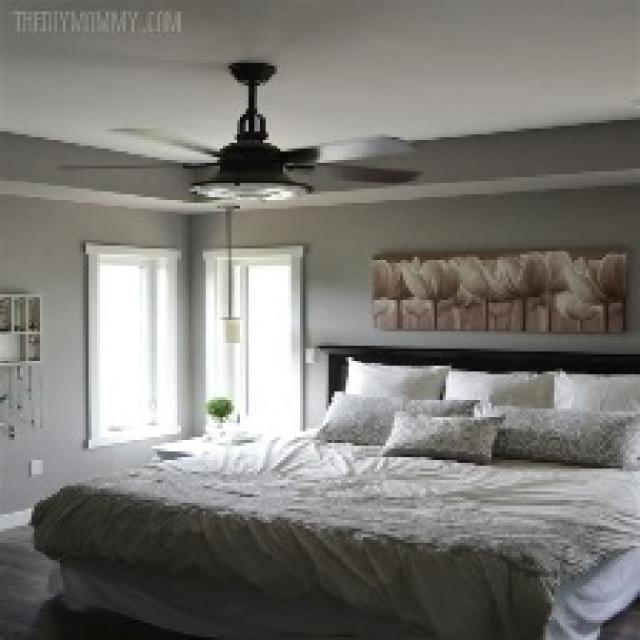Bed: (29, 343, 637, 637)
